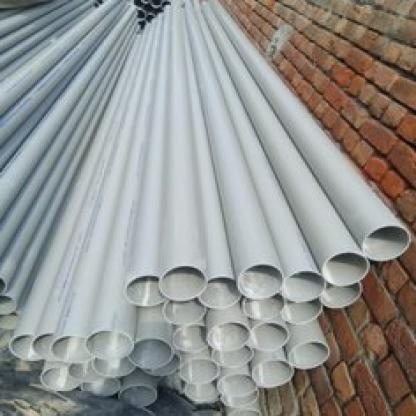PVC: (0, 0, 413, 414)
